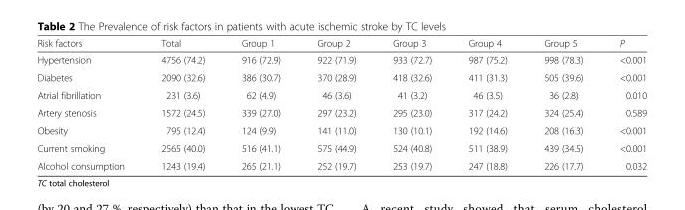table: (36, 37, 646, 171)
table column: (36, 37, 142, 171), (142, 37, 222, 171), (222, 37, 298, 171), (373, 37, 449, 171), (449, 37, 525, 171), (298, 37, 373, 171), (525, 37, 600, 171), (600, 37, 646, 171)
table column header: (36, 37, 646, 51)
table row: (36, 85, 646, 103), (36, 103, 646, 121), (36, 121, 646, 139), (36, 51, 646, 68), (36, 68, 646, 85), (36, 139, 646, 156), (36, 156, 646, 171), (36, 37, 646, 51)
